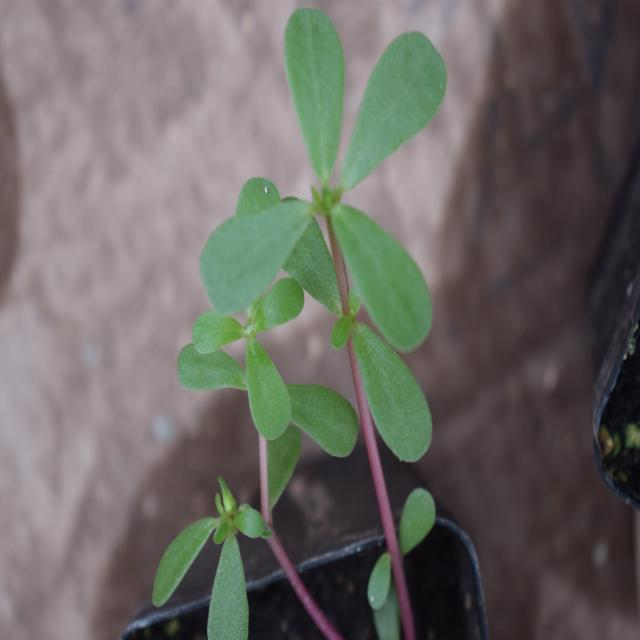purslane: (147, 7, 481, 596)
